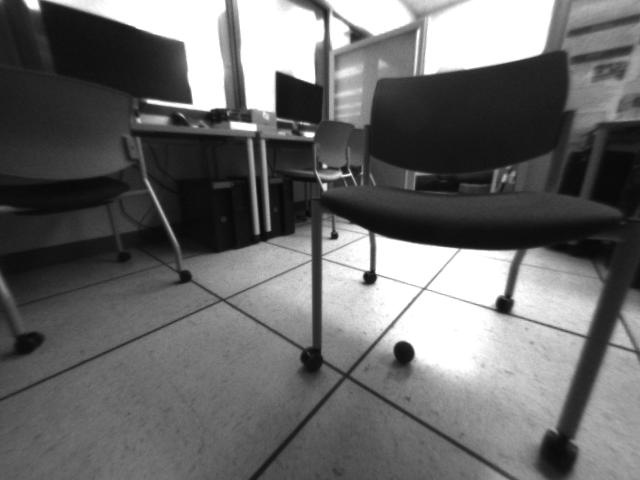dogtoy: (389, 334, 422, 371)
